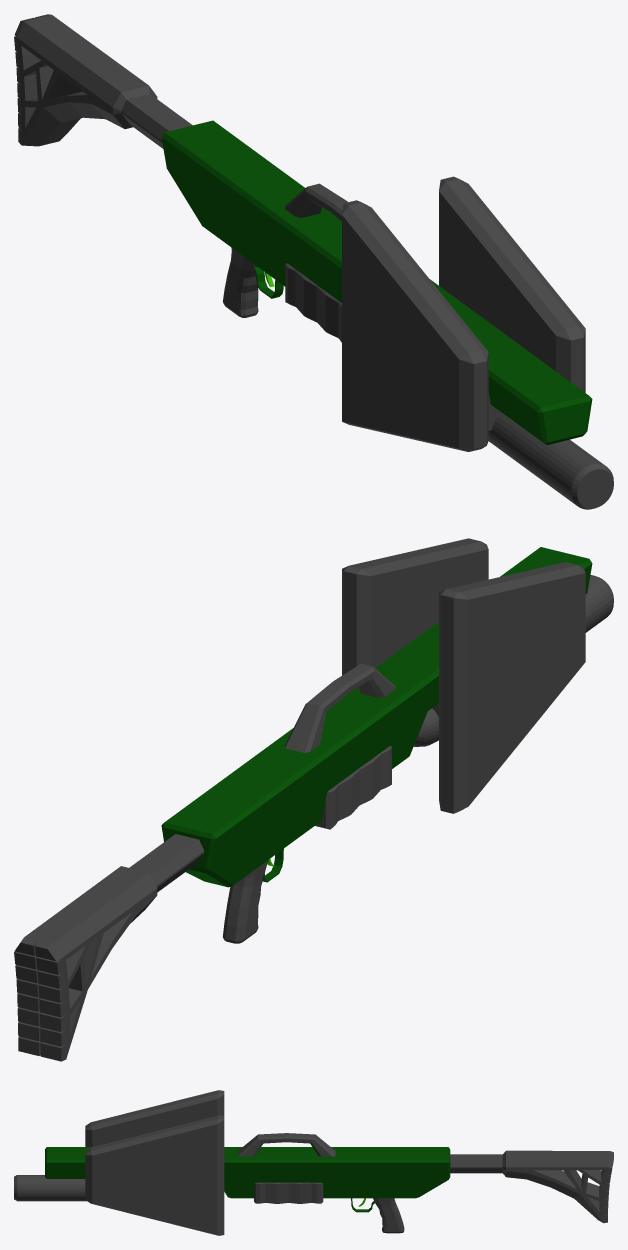
The model's file is REBV1.0.fbx.
3 renders of one model, top to bottom at view 1: azimuth 30°, elevation 25°; view 2: azimuth 150°, elevation 25°; view 3: azimuth 270°, elevation 25°, orthographic. The views are drawn at different scales.
Visible parts, largest first — view 1: Plane.001, Cube, Plane.002, Cube.001, Cylinder, Cube.003, Cube.007, Cube.002, Cube.004; view 2: Plane.001, Cube, Cube.001, Plane.002, Cube.004, Cube.003, Cube.002, Cube.007, Cylinder; view 3: Plane.002, Cube, Cube.001, Plane.001, Cylinder, Cube.003, Cube.004, Cube.007, Cube.002.
Boxes of the visible parts, x1,y1,x2,y2 form: Plane.001: (342, 200, 488, 451); Cube: (161, 120, 592, 445); Plane.002: (439, 176, 585, 392); Cube.001: (14, 14, 157, 146); Cylinder: (488, 412, 613, 509); Cube.003: (285, 263, 341, 342); Cube.007: (121, 94, 192, 148); Cube.002: (223, 247, 258, 317); Cube.004: (285, 183, 347, 221); Plane.001: (439, 562, 585, 813); Cube: (161, 547, 592, 887); Cube.001: (14, 866, 157, 1061); Plane.002: (342, 538, 488, 675); Cube.004: (285, 664, 395, 752); Cube.003: (315, 746, 391, 829); Cube.002: (223, 860, 268, 943); Cube.007: (129, 834, 204, 892); Cylinder: (413, 575, 613, 746); Plane.002: (85, 1115, 224, 1235); Cube: (45, 1147, 450, 1198); Cube.001: (502, 1150, 613, 1223); Plane.001: (85, 1090, 224, 1146); Cylinder: (14, 1175, 86, 1201); Cube.003: (254, 1182, 323, 1203); Cube.004: (238, 1133, 335, 1156); Cube.007: (450, 1154, 502, 1173); Cube.002: (373, 1198, 404, 1233).
Bounding box in the file's own units: 0.1695 × 0.3028 × 1.3.
